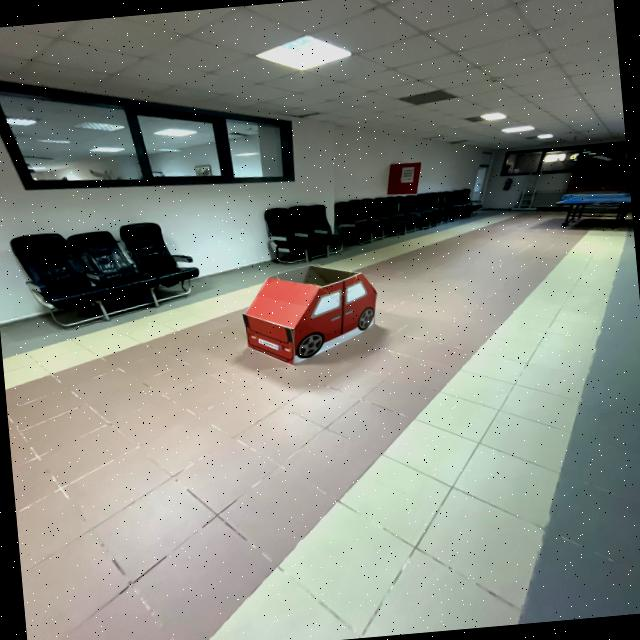red_car: (222, 253, 402, 380)
